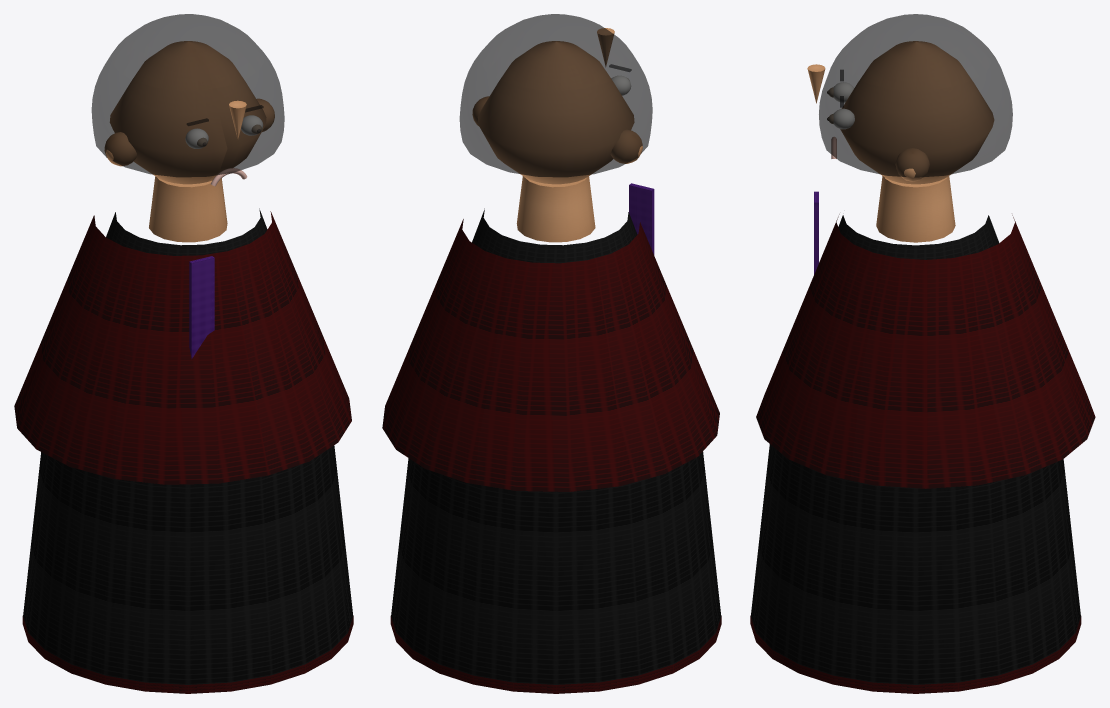
File: pilates_secretary.glb
3 views of the same model, side by side, from view 1: azimuth 30°, elevation 25°; view 2: azimuth 150°, elevation 25°; view 3: azimuth 270°, elevation 25° (orthographic).
Visible parts, largest first — view 1: Character_pilate_s_secretary, head; view 2: Character_pilate_s_secretary, head; view 3: Character_pilate_s_secretary, head.
Boxes of the visible parts, box(x1,y1,x2,y2) form: Character_pilate_s_secretary: box(14, 14, 353, 693); head: box(110, 41, 266, 184); Character_pilate_s_secretary: box(382, 14, 721, 693); head: box(478, 41, 634, 184); Character_pilate_s_secretary: box(750, 14, 1095, 693); head: box(840, 41, 993, 184).
Size of the model in its own units: 0.921 by 1.8 by 0.9363.
9 materials, 5 textured.
